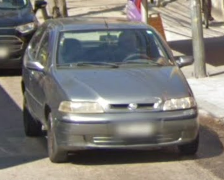car: (20, 16, 200, 163)
